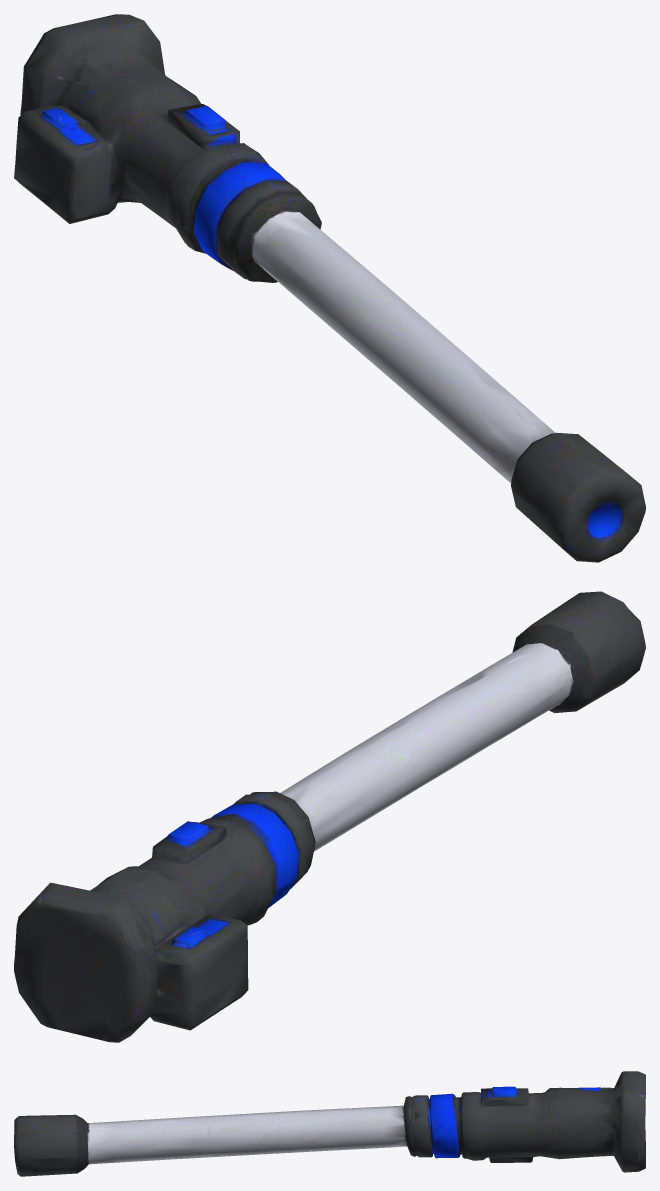
Rendered from aki_baton.glb.
The picture shows the model from 3 angles, top to bottom: view 1: azimuth 30°, elevation 25°; view 2: azimuth 150°, elevation 25°; view 3: azimuth 270°, elevation 25°; orthographic projection. The views are drawn at different scales.
Visible parts, largest first — view 1: node_0; view 2: node_0; view 3: node_0.
Boxes of the visible parts, x1,y1,x2,y2 form: node_0: (14, 14, 645, 562); node_0: (14, 591, 645, 1042); node_0: (14, 1071, 645, 1176).
Bounding box in the file's own units: 0.1787 × 0.1659 × 1.
1 material, 1 textured.
